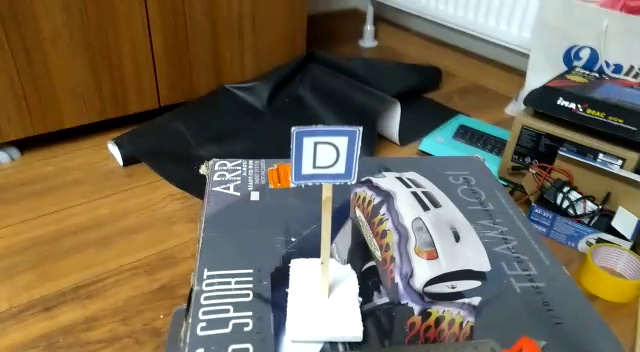durak: (291, 129, 351, 185)
